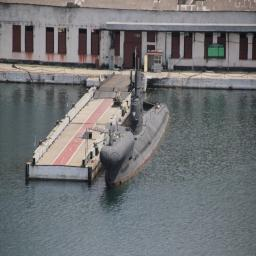submarine: (100, 59, 171, 193)
